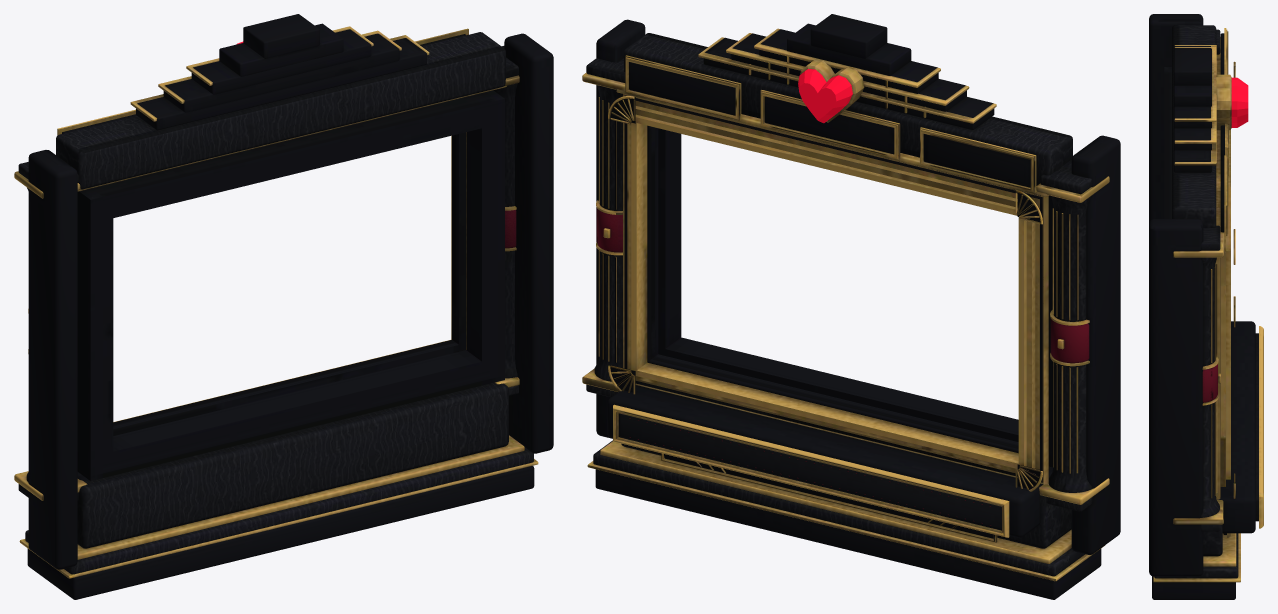
3 views of the same model, side by side, from view 1: azimuth 30°, elevation 25°; view 2: azimuth 150°, elevation 25°; view 3: azimuth 270°, elevation 25° (orthographic). The views are drawn at different scales.
Visible parts, largest first — view 1: Black_piano_lacquer, Subtle_Nero_marble, Champagne_polished_gold; view 2: Black_piano_lacquer, Champagne_polished_gold, Subtle_Nero_marble, Fine_black_leather, Deep_crimson_velvet, glow_ruby_heart; view 3: Black_piano_lacquer, Champagne_polished_gold, Subtle_Nero_marble, glow_ruby_heart, Fine_black_leather, Deep_crimson_velvet.
Boxes of the visible parts, <box> form: Black_piano_lacquer: <box>27,14,553,599</box>; Subtle_Nero_marble: <box>18,32,533,574</box>; Champagne_polished_gold: <box>14,26,538,578</box>; Black_piano_lacquer: <box>595,14,1120,599</box>; Champagne_polished_gold: <box>582,28,1109,581</box>; Subtle_Nero_marble: <box>586,33,1092,576</box>; Fine_black_leather: <box>618,413,1001,530</box>; Deep_crimson_velvet: <box>596,208,1089,525</box>; glow_ruby_heart: <box>798,68,852,123</box>; Black_piano_lacquer: <box>1149,14,1255,599</box>; Champagne_polished_gold: <box>1153,28,1263,582</box>; Subtle_Nero_marble: <box>1154,25,1238,578</box>; glow_ruby_heart: <box>1231,77,1248,127</box>; Fine_black_leather: <box>1255,333,1258,521</box>; Deep_crimson_velvet: <box>1202,364,1217,402</box>.
Bounding box in the file's own units: 9.43 × 9 × 2.12.
Materials: 6 (5 with a texture image).
